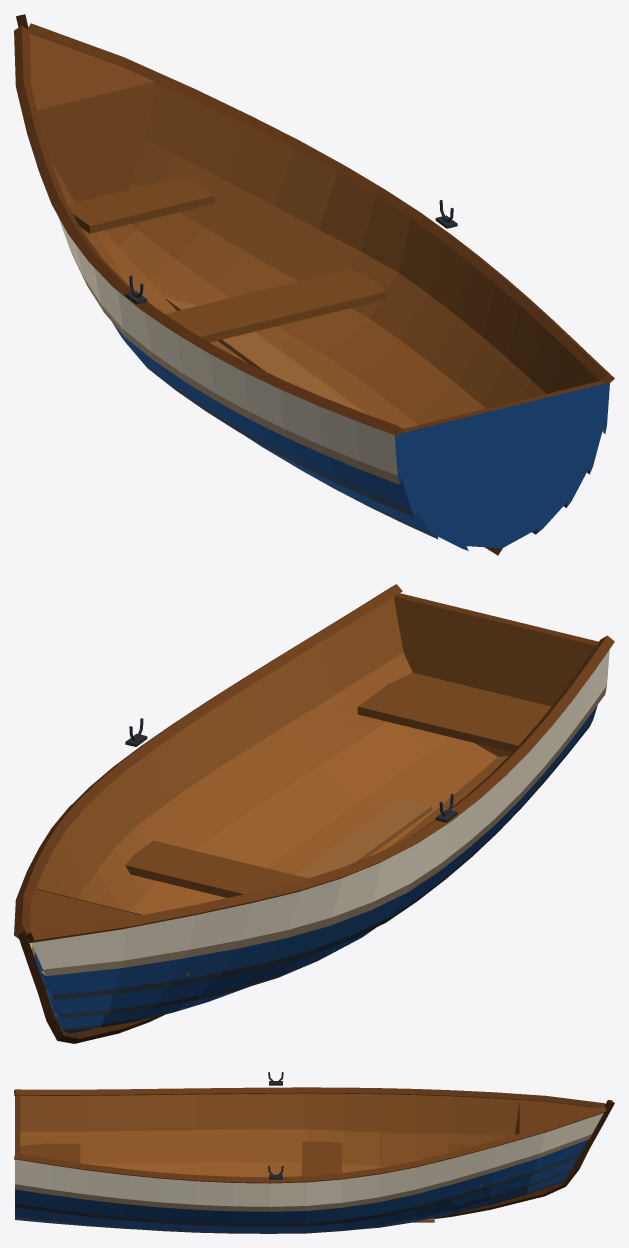
Rendered from rowboat.glb.
3 views of the same model, one above another, from view 1: azimuth 30°, elevation 25°; view 2: azimuth 150°, elevation 25°; view 3: azimuth 270°, elevation 25° (orthographic). The views are drawn at different scales.
Parts seen in each view (by area): view 1: hull; view 2: hull; view 3: hull.
Boxes of the visible parts, x1,y1,x2,y2 form: hull: [14, 14, 614, 555]; hull: [14, 584, 614, 1043]; hull: [14, 1072, 614, 1233].
Bounding box in the file's own units: 1.49 × 0.9219 × 3.9.
